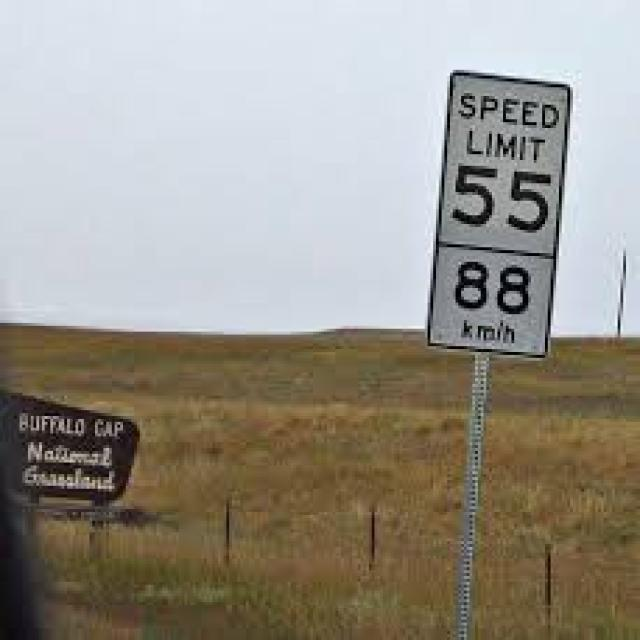speedLimit55: (446, 64, 565, 356)
